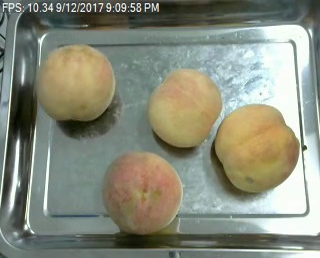Peach: (213, 103, 301, 193), (102, 150, 182, 233), (35, 42, 116, 123), (147, 68, 223, 146)
